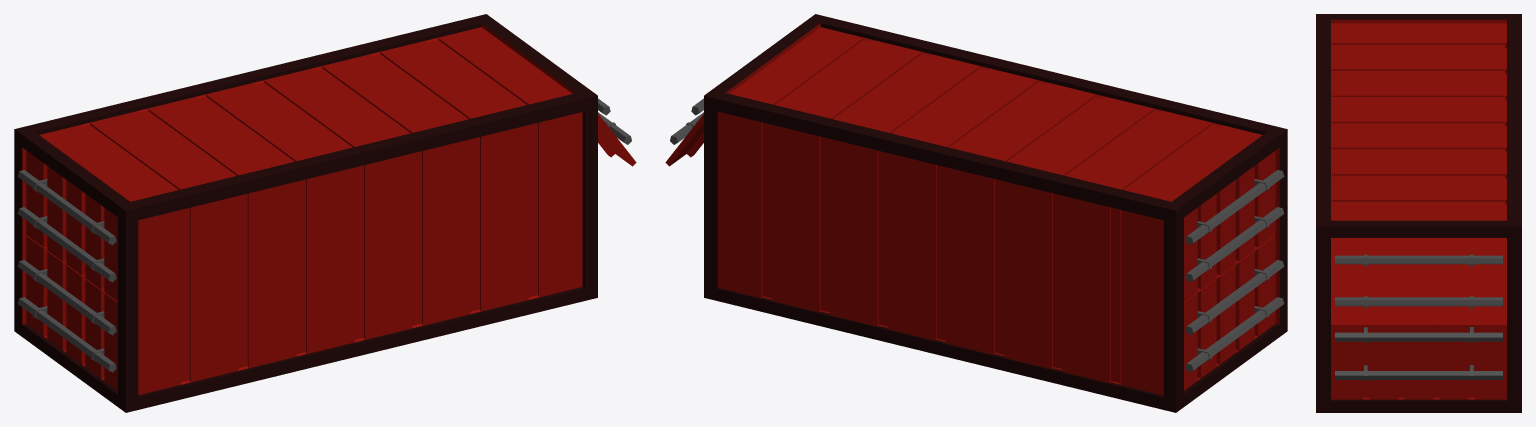
The model's file is contaıner.fbx.
The picture shows the model from 3 angles, left to right: view 1: azimuth 30°, elevation 25°; view 2: azimuth 150°, elevation 25°; view 3: azimuth 270°, elevation 25°; orthographic projection. The views are drawn at different scales.
Parts seen in each view (by area): view 1: contaıner; view 2: contaıner; view 3: contaıner.
Boxes of the visible parts, x1,y1,x2,y2 form: contaıner: (14, 14, 636, 412); contaıner: (665, 14, 1287, 412); contaıner: (1316, 14, 1521, 412).
Bounding box in the file's own units: 1513 × 555 × 555.
